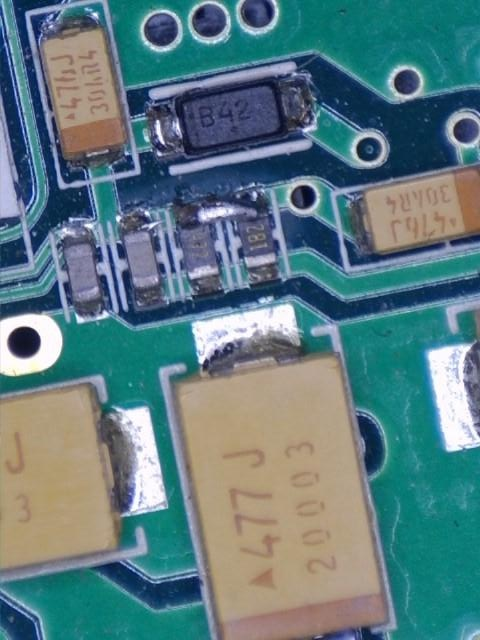pcb_defect: (173, 188, 268, 238)
